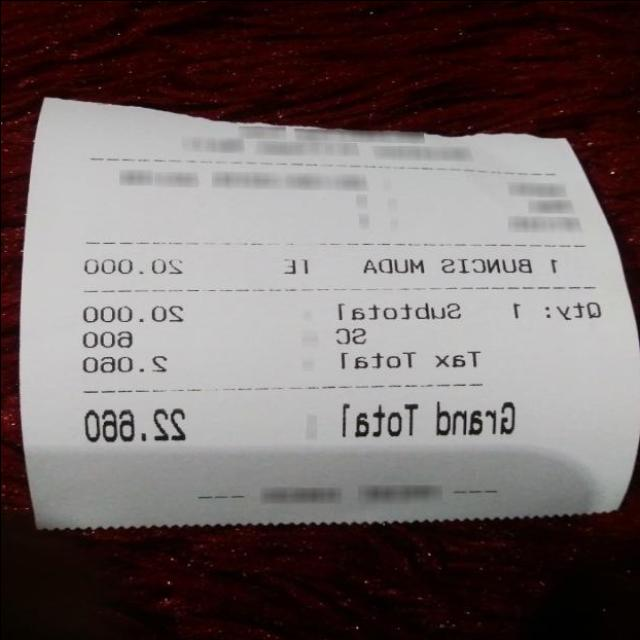kertas: (16, 88, 640, 528)
